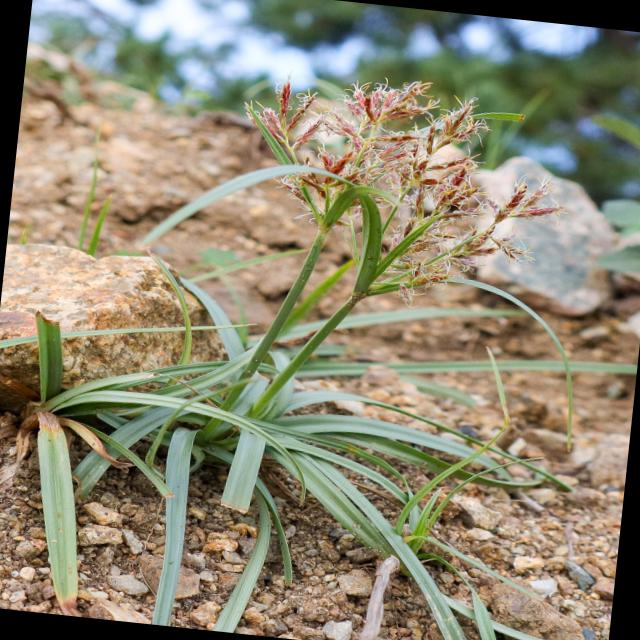cyperus: (224, 56, 582, 303)
